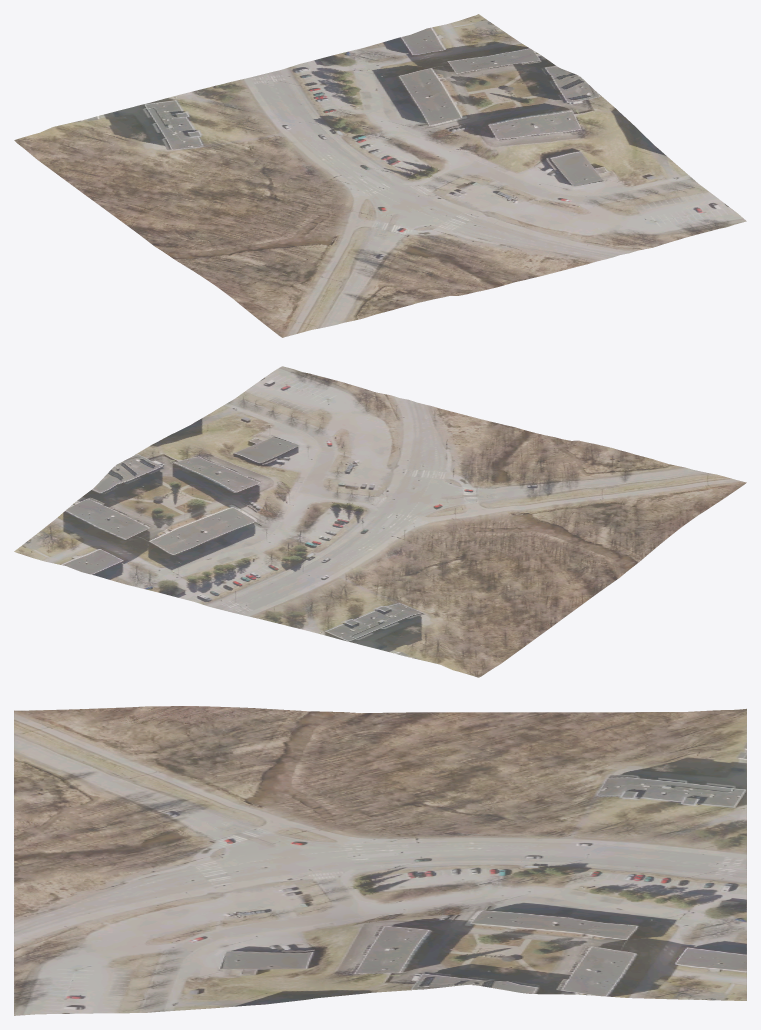
Rendered from CM_Terrain_24492916_6817541.fbx.
3 renders of one model, top to bottom at view 1: azimuth 30°, elevation 25°; view 2: azimuth 150°, elevation 25°; view 3: azimuth 270°, elevation 25°, orthographic. The views are drawn at different scales.
Parts seen in each view (by area): view 1: CM_Terrain_24492916_6817541_LOD0; view 2: CM_Terrain_24492916_6817541_LOD0; view 3: CM_Terrain_24492916_6817541_LOD0.
Part boxes in pixels (left/top/right/bottom): CM_Terrain_24492916_6817541_LOD0: left=14, top=14, right=746, bottom=337; CM_Terrain_24492916_6817541_LOD0: left=14, top=366, right=746, bottom=677; CM_Terrain_24492916_6817541_LOD0: left=14, top=706, right=746, bottom=1015.
Size of what is drawn, in the model's own units: 205 by 11.75 by 205.
